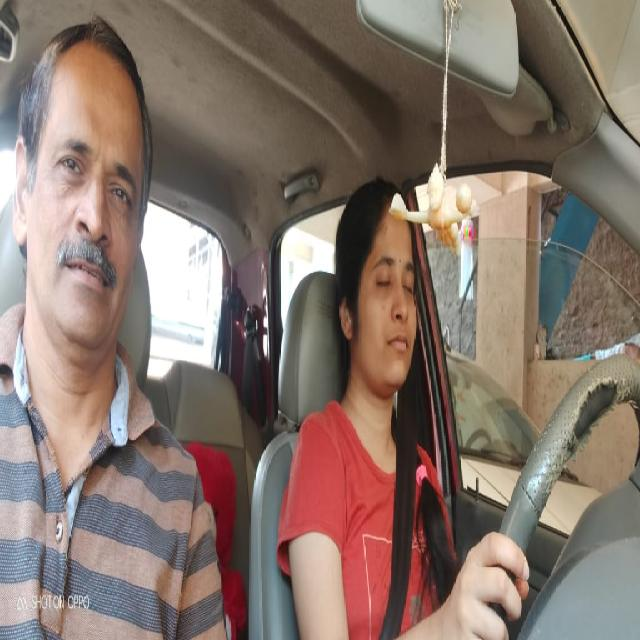drowsy: (336, 168, 421, 412)
person: (11, 17, 156, 363)
